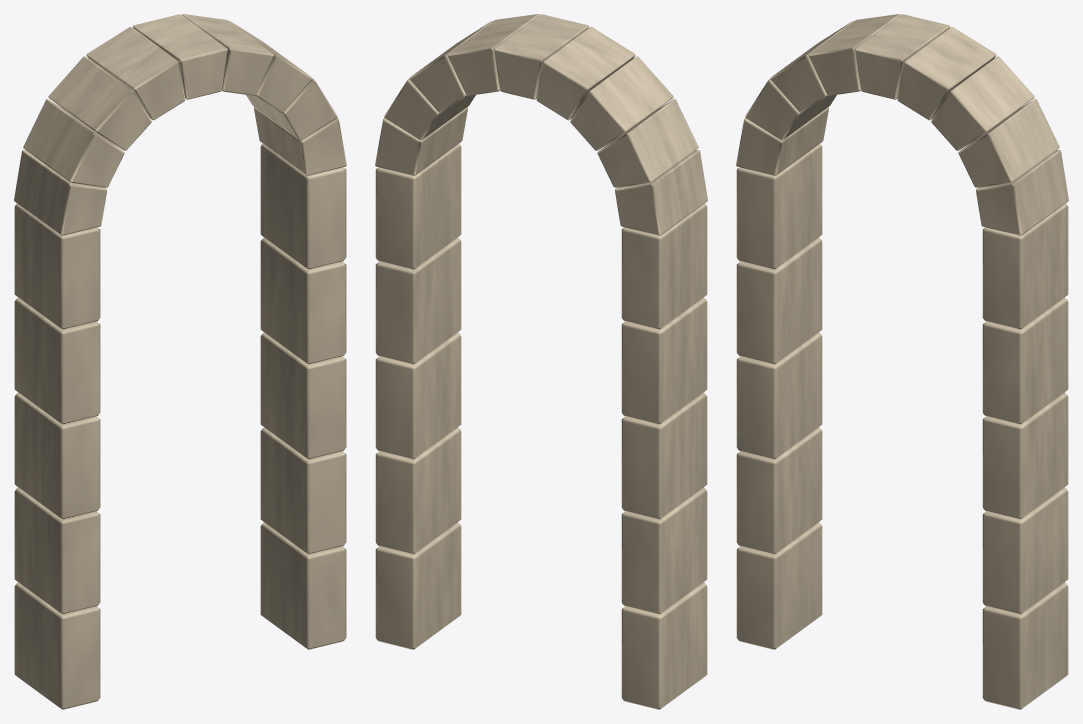
Rendered from Furn_DoorFrame.fbx.
3 renders of one model, left to right at view 1: azimuth 30°, elevation 25°; view 2: azimuth 150°, elevation 25°; view 3: azimuth 330°, elevation 25°, orthographic.
Visible parts, largest first — view 1: Furn_DoorFrame_Mesh; view 2: Furn_DoorFrame_Mesh; view 3: Furn_DoorFrame_Mesh.
Part boxes in pixels (x1=…): Furn_DoorFrame_Mesh: x1=14, y1=14, x2=346, y2=709; Furn_DoorFrame_Mesh: x1=375, y1=14, x2=707, y2=709; Furn_DoorFrame_Mesh: x1=736, y1=14, x2=1068, y2=709.
Bounding box in the file's own units: 1.2 × 2.49 × 0.35.
1 material, 1 textured.
